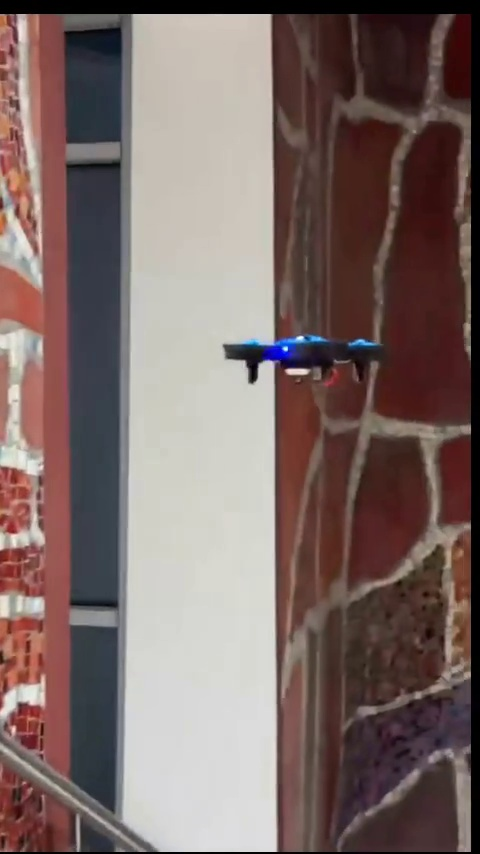drone: (230, 334, 385, 390)
